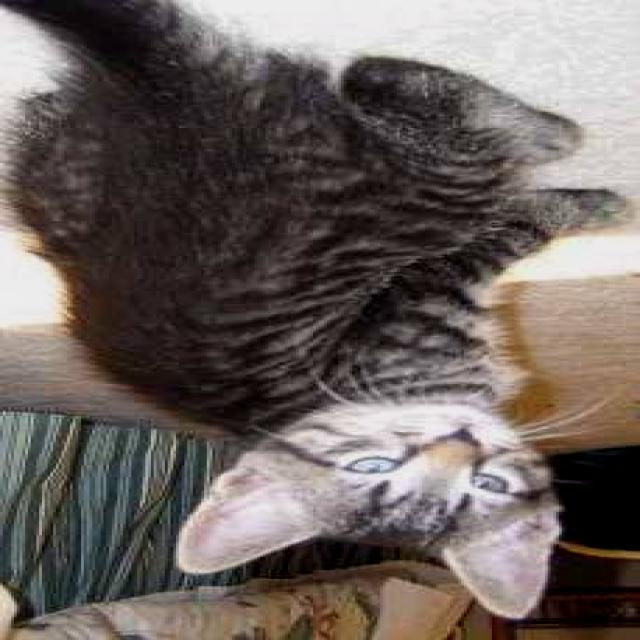Kucing: (56, 25, 627, 628)
